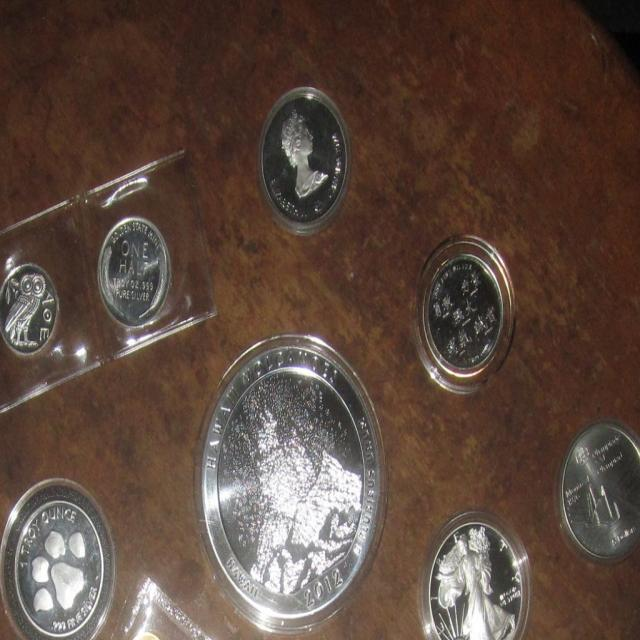Coin: (204, 342, 382, 629), (259, 92, 353, 235), (13, 499, 107, 639), (417, 249, 508, 380), (560, 420, 639, 563), (429, 519, 522, 639), (96, 214, 168, 327), (0, 261, 61, 362)
